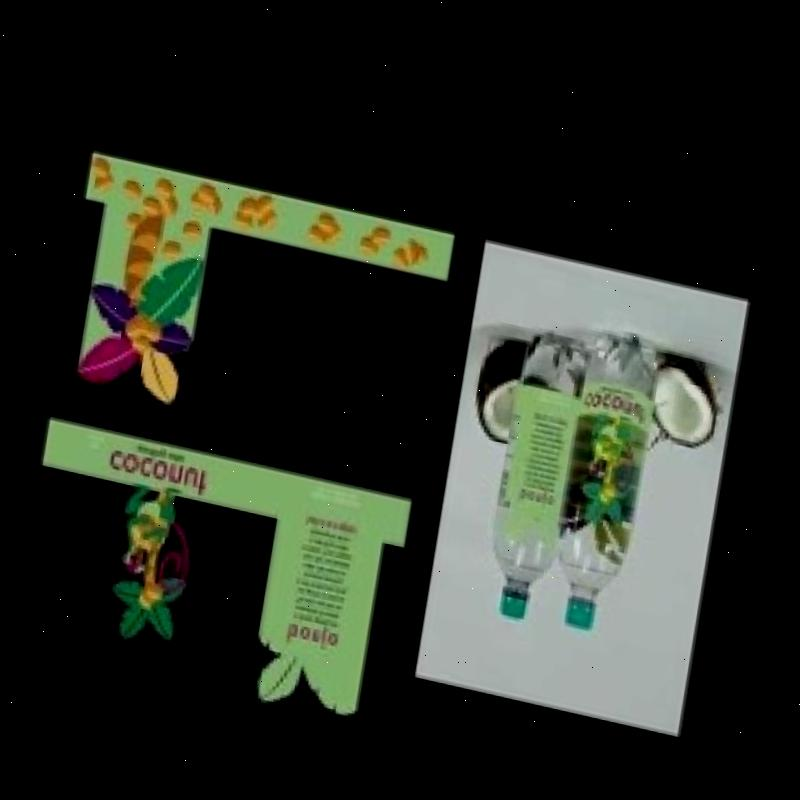botella: (547, 311, 665, 631), (486, 317, 590, 611)
